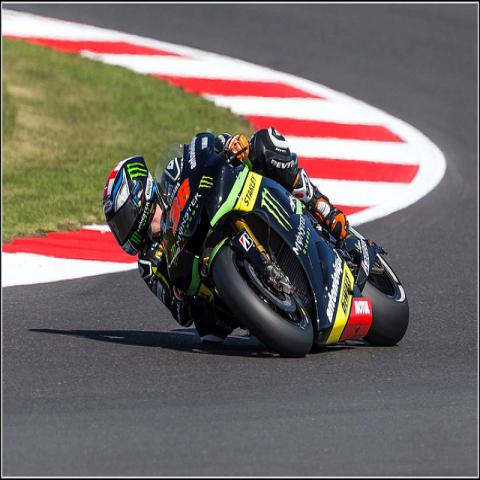motorcycle: (152, 132, 410, 356)
